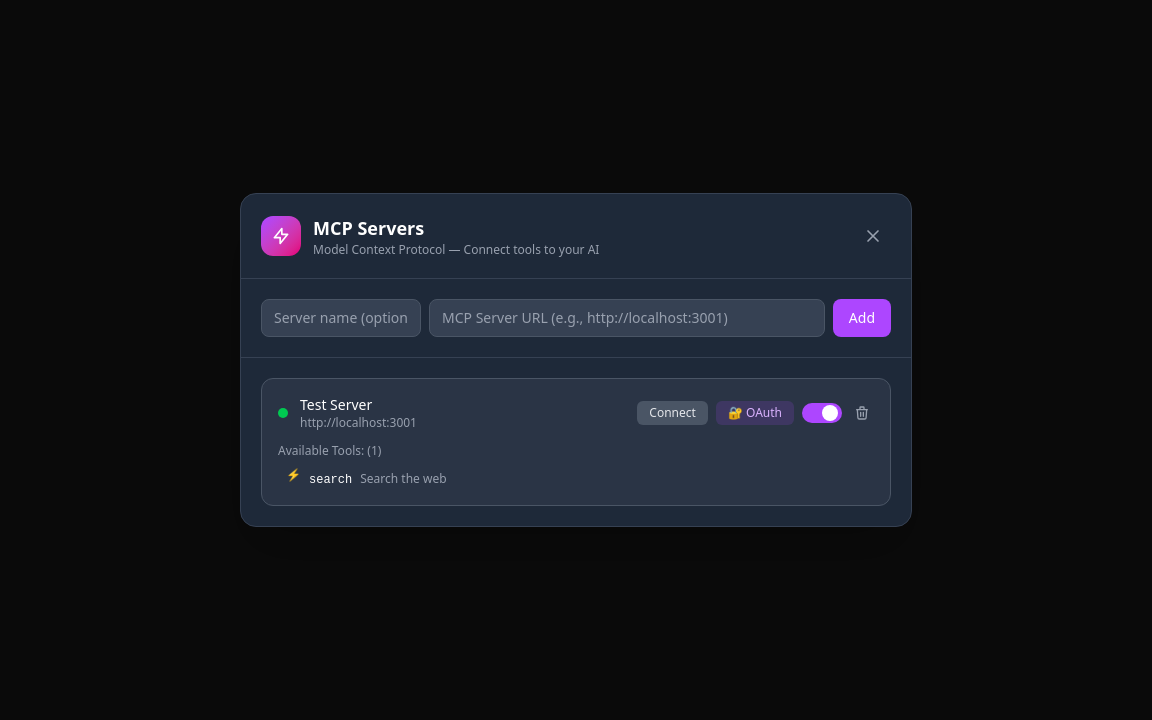
Test: MCPPanel › should keep the enabled state and show an error when PATCH fails
This screenshot has width=1152, height=720.
Click the switch at coordinates (822, 413), box [802,403,842,423]
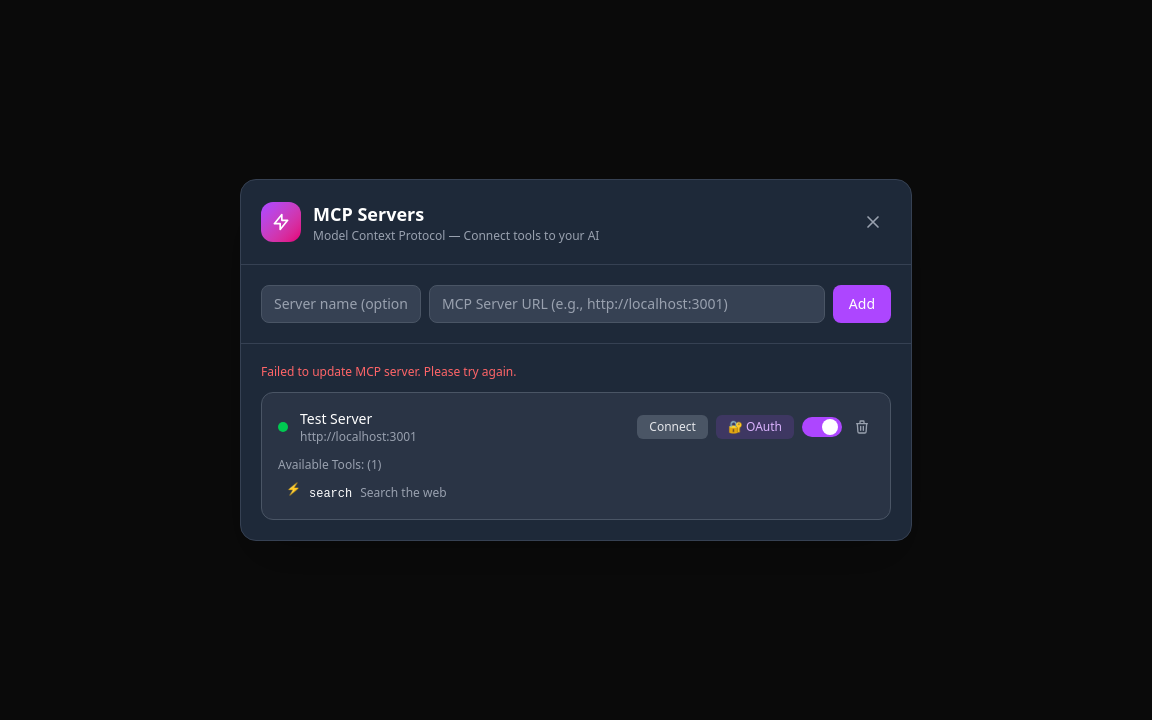
Check: the message "Failed to update MCP server. Please try again." is shown, box [261,363,516,380]
